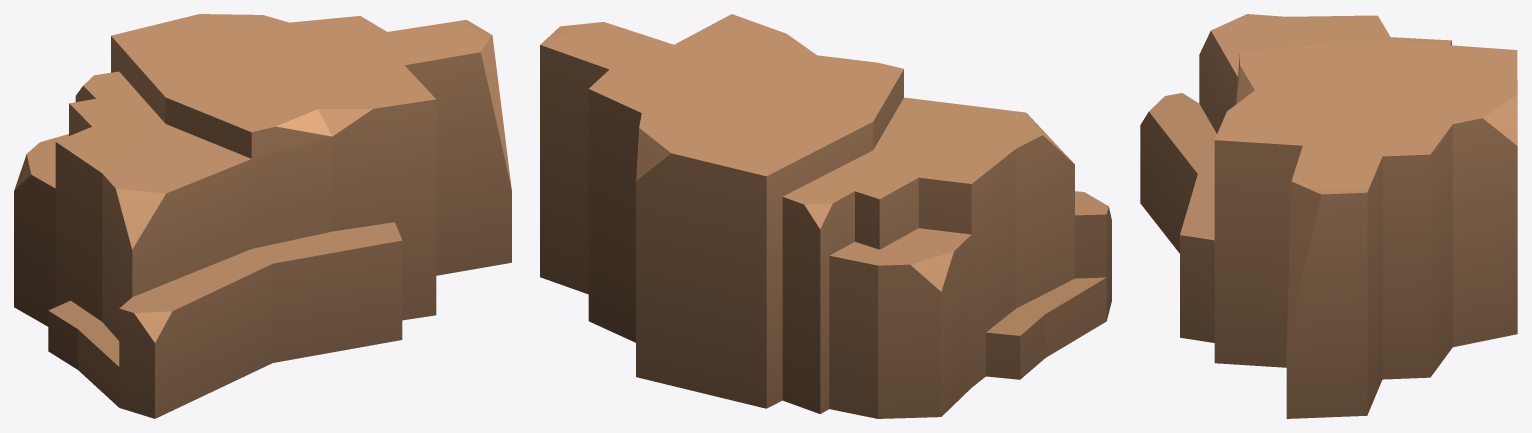
Rendered from stone large brown 2.fbx.
The picture shows the model from 3 angles, left to right: view 1: azimuth 30°, elevation 25°; view 2: azimuth 150°, elevation 25°; view 3: azimuth 270°, elevation 25°; orthographic projection. The views are drawn at different scales.
Parts seen in each view (by area): view 1: stone large brown 2; view 2: stone large brown 2; view 3: stone large brown 2.
Boxes of the visible parts, x1,y1,x2,y2 form: stone large brown 2: (14, 14, 511, 418); stone large brown 2: (540, 14, 1111, 418); stone large brown 2: (1140, 14, 1517, 418).
Size of the model in its own units: 560 by 261 by 400.
